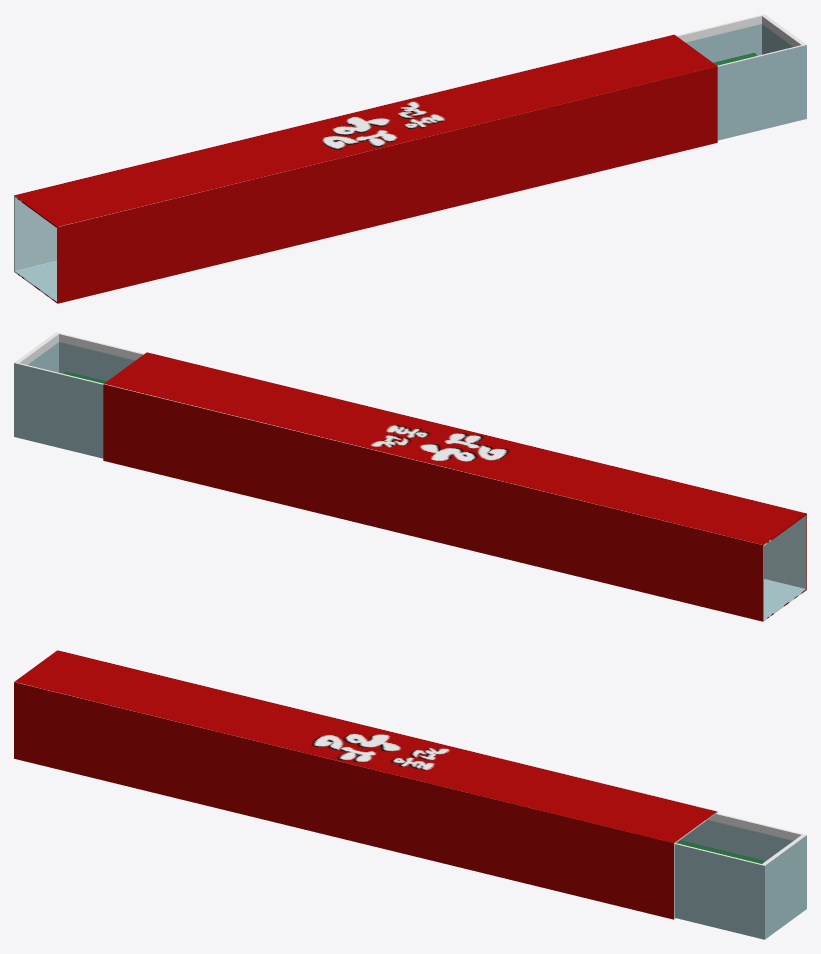
File: hyang.glb
The picture shows the model from 3 angles, top to bottom: view 1: azimuth 30°, elevation 25°; view 2: azimuth 150°, elevation 25°; view 3: azimuth 330°, elevation 25°; orthographic projection.
Parts seen in each view (by area): view 1: 큐브.053, 큐브.054; view 2: 큐브.053, 큐브.054; view 3: 큐브.053, 큐브.054.
Boxes of the visible parts, x1=… form: 큐브.053: x1=14, y1=34, x2=717, y2=303; 큐브.054: x1=676, y1=14, x2=806, y2=140; 큐브.053: x1=103, y1=352, x2=806, y2=621; 큐브.054: x1=14, y1=332, x2=144, y2=458; 큐브.053: x1=14, y1=650, x2=717, y2=919; 큐브.054: x1=674, y1=813, x2=806, y2=939.
Bounding box in the file's own units: 0.314 × 0.0306 × 0.0316.
Materials: 1 (1 with a texture image).
